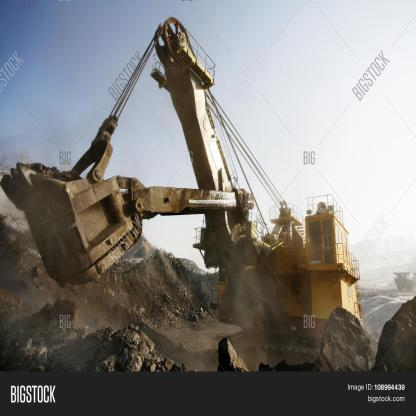excavator: (6, 11, 376, 375)
